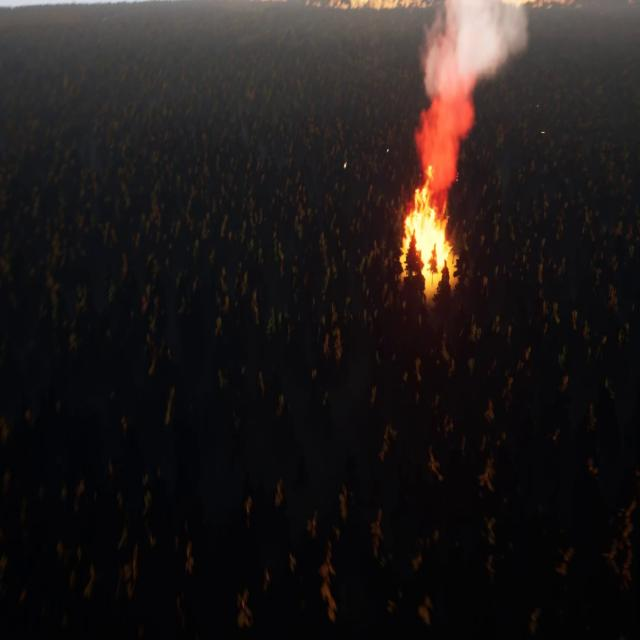fire: (399, 192, 461, 282)
smoke: (418, 0, 529, 184)
